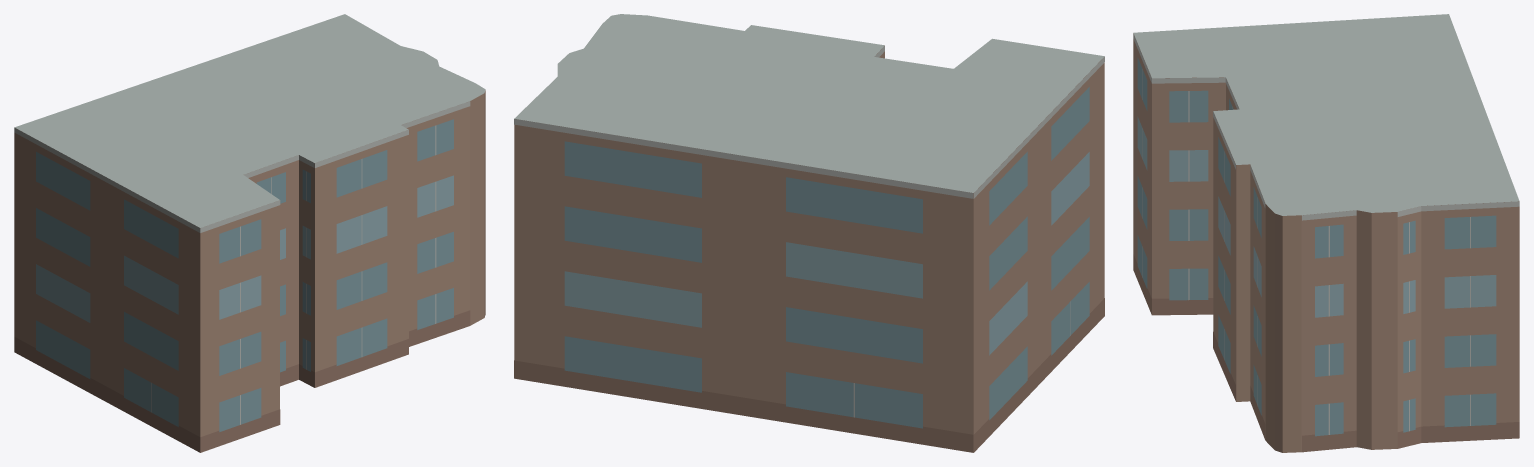
Rendered from survey-upis-32587663.glb.
The picture shows the model from 3 angles, left to right: view 1: azimuth 30°, elevation 25°; view 2: azimuth 150°, elevation 25°; view 3: azimuth 270°, elevation 25°; orthographic projection. The views are drawn at different scales.
Visible parts, largest first — view 1: survey-upis-32587663.tmp; view 2: survey-upis-32587663.tmp; view 3: survey-upis-32587663.tmp.
Part boxes in pixels (x1,y1,x2,y2): survey-upis-32587663.tmp: (14,14,485,452); survey-upis-32587663.tmp: (514,14,1104,452); survey-upis-32587663.tmp: (1133,14,1519,452).
Size of the model in its own units: 19.74 by 10.8 by 15.97.
